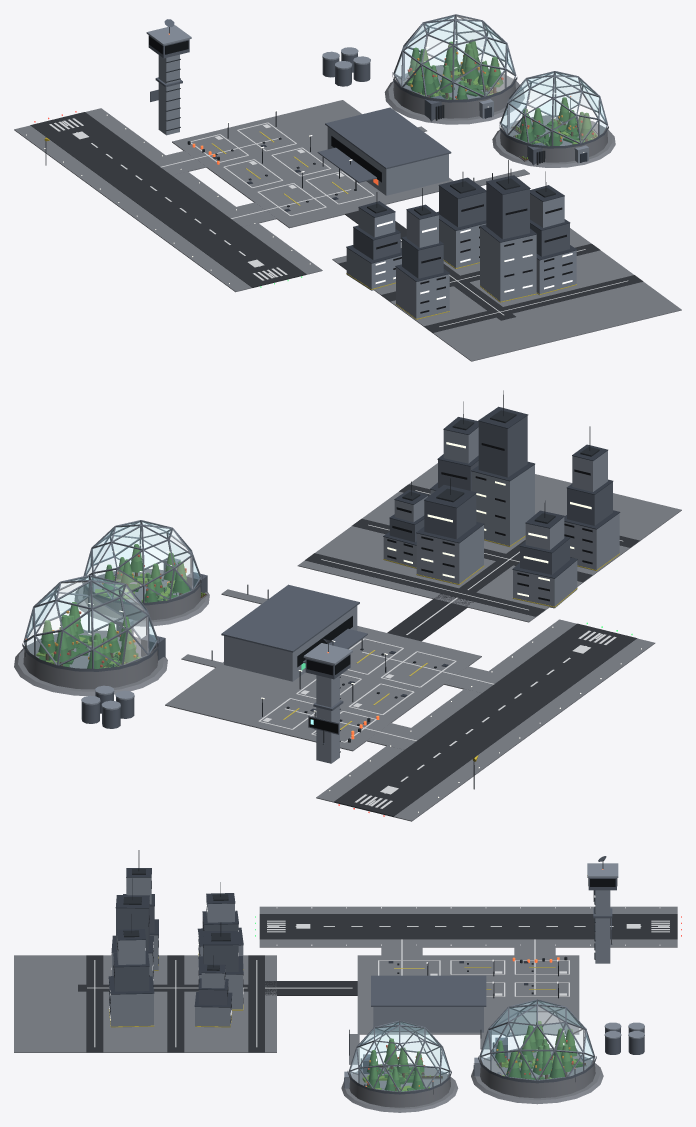
File: city-port-s.glb
3 renders of one model, top to bottom at view 1: azimuth 30°, elevation 25°; view 2: azimuth 150°, elevation 25°; view 3: azimuth 270°, elevation 25°, orthographic. The views are drawn at different scales.
Visible parts, largest first — view 1: apron, cityPlaza, strip, dome0Glazing, terminalRoof, stripShoulder1, dome1Glazing, city4Mass0, stripShoulder0, terminal, cityRoad2, city3Mass0 (+24 smaller); view 2: apron, strip, cityPlaza, dome0Glazing, terminalRoof, stripShoulder1, dome1Glazing, city4Mass0, stripShoulder0, terminal, city1Mass0, dome0StemWall (+24 smaller); view 3: cityPlaza, apron, strip, dome0Glazing, dome1Glazing, terminalRoof, stripShoulder1, stripShoulder0, terminal, dome0StemWall, cityRoad1, cityRoad2 (+22 smaller).
Part boxes in pixels (box(x1,y1,x2,y2)): apron: box(172, 100, 453, 228); cityPlaza: box(332, 228, 681, 361); strip: box(30, 112, 306, 287); dome0Glazing: box(404, 16, 513, 98); terminalRoof: box(325, 107, 451, 169); stripShoulder1: box(14, 125, 251, 292); dome1Glazing: box(501, 72, 606, 145); city4Mass0: box(480, 227, 536, 302); stripShoulder0: box(85, 108, 322, 274); terminal: box(327, 127, 448, 195); cityRoad2: box(424, 275, 643, 332); city3Mass0: box(396, 267, 449, 319); apron: box(165, 626, 481, 751); strip: box(334, 623, 636, 817); cityPlaza: box(297, 463, 681, 622); dome0Glazing: box(26, 577, 156, 668); terminalRoof: box(221, 584, 359, 652); stripShoulder1: box(394, 638, 655, 821); dome1Glazing: box(85, 522, 199, 601); city4Mass0: box(471, 465, 534, 546); stripShoulder0: box(316, 619, 576, 802); terminal: box(224, 606, 357, 681); city1Mass0: box(416, 525, 483, 584); dome0StemWall: box(23, 644, 157, 689); cityPlaza: box(14, 955, 276, 1052); apron: box(357, 955, 579, 1034); strip: box(259, 914, 677, 939); dome0Glazing: box(481, 1001, 592, 1079); dome1Glazing: box(359, 1022, 448, 1090); terminalRoof: box(371, 975, 486, 1006); stripShoulder1: box(259, 906, 677, 913); stripShoulder0: box(259, 939, 677, 947); terminal: box(373, 1007, 483, 1032); dome0StemWall: box(480, 1058, 595, 1098); cityRoad1: box(167, 955, 184, 1052); cityRoad2: box(86, 955, 103, 1052).
Size of the model in its own units: 149 by 40.55 by 198.
